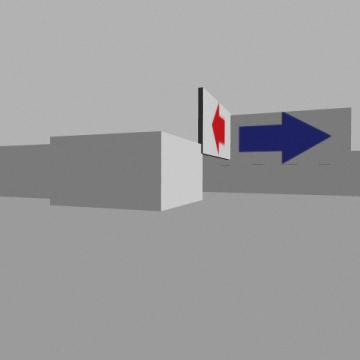blue_right: (238, 112, 331, 163)
red_left: (212, 104, 224, 153)
